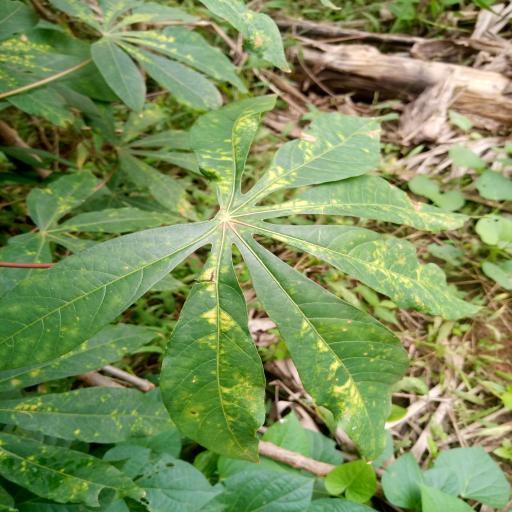Cassava_Mosaic: (0, 98, 473, 467)
